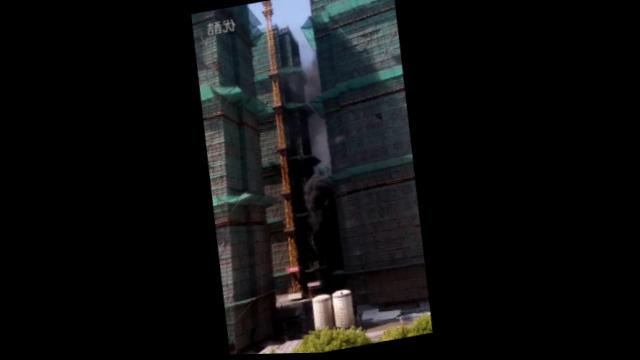smoke: (298, 172, 334, 231)
